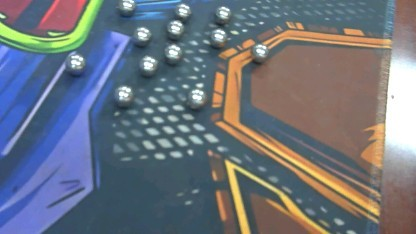ironball: (136, 55, 160, 79), (131, 18, 152, 45), (249, 39, 273, 62), (185, 86, 208, 109), (63, 54, 87, 76), (208, 4, 236, 22), (163, 18, 187, 38), (113, 0, 142, 16), (206, 29, 227, 51), (165, 42, 182, 66), (116, 82, 134, 104), (173, 4, 192, 19)
